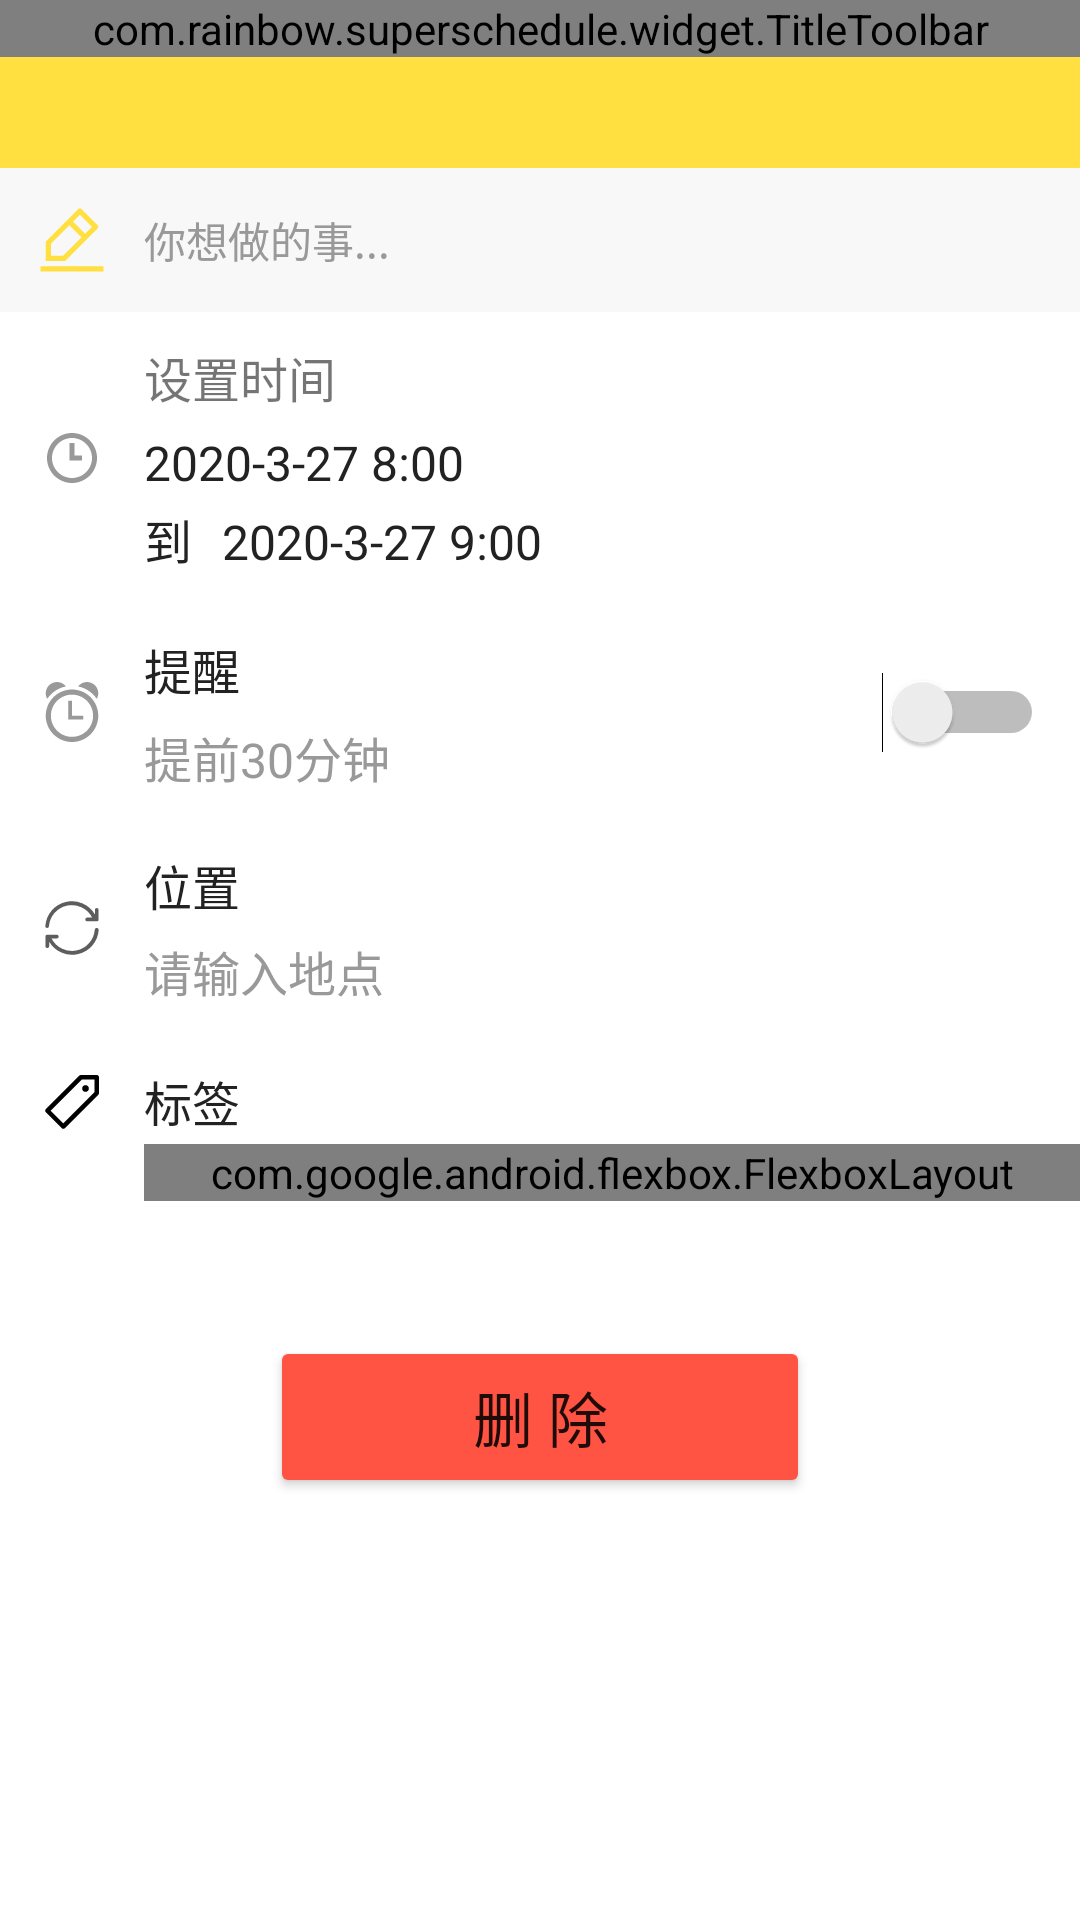

Screen size 1080x1920. Icon name, then its center in pixels as (x,y):
edit: (72,240)
label: (72,1102)
refresh: (72,928)
time: (72,458)
